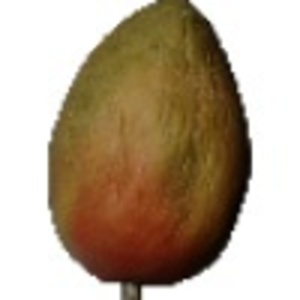mamão: (41, 2, 256, 291)
